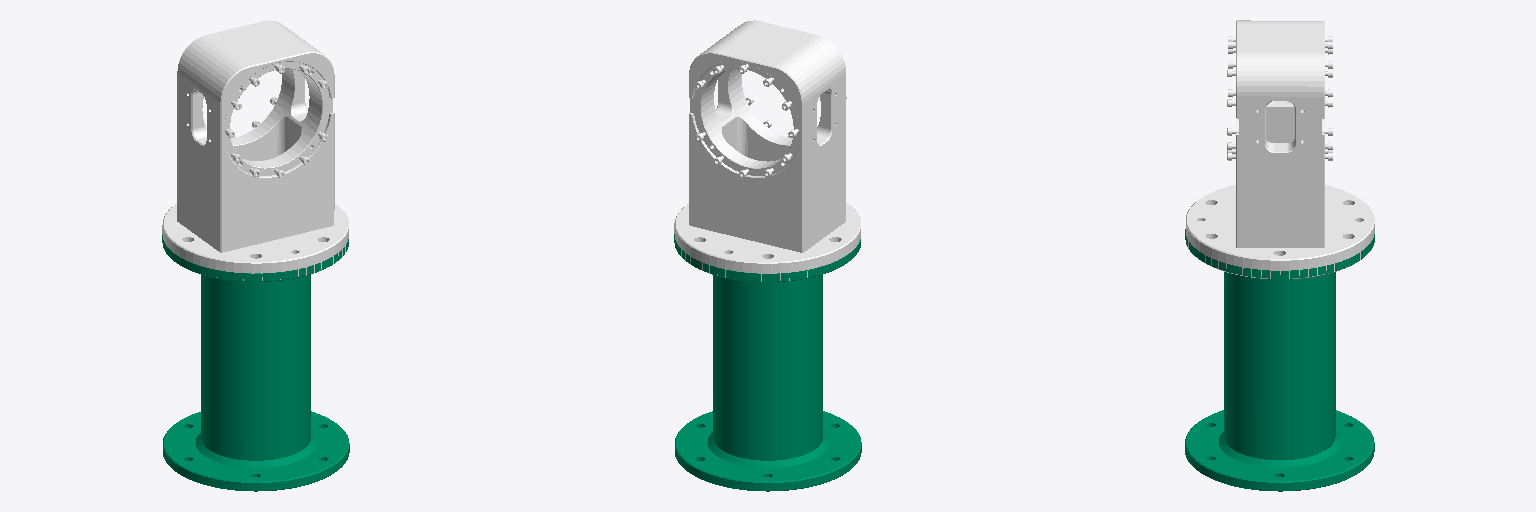
robot.urdf — base:
<robot name="base">
<!-- ===== World & Workspace frame ===== -->
    <link name="world" />
    <joint name="world_to_base0" type="fixed">
        <parent link="world" />
        <child link="base0" />
        <origin xyz="-0.3 0.705 -0.41" rpy="1.57 0 0" />
    </joint>
    <link name="base0">
        <visual>
            <origin rpy="0 0 0" xyz="0 0 0" />
            <geometry>
            <mesh filename="./meshes/base0.stl" scale="0.001 0.001 0.001" />
            </geometry>
        </visual>
        <inertial>
            <origin xyz="0 0 0" rpy="0 0 0" />
            <mass value="1.0" />
            <inertia ixx="0.01" ixy="0.0" ixz="0.0" iyy="0.01" iyz="0.0" izz="0.01" />
        </inertial>
    </link>
    <joint name="base0_to_base1" type="fixed">
        <parent link="base0" />
        <child link="base1" />
        <origin xyz="0.3 1.07 0.7" rpy="1.57 0 0" />
    </joint>
    <link name="base1">
        <visual>
            <origin rpy="0 0 0" xyz="0 0 0.0" />
            <geometry>
            <mesh filename="./meshes/base1.stl" scale="0.001 0.001 0.001" />
            </geometry>
        </visual>
        <inertial>
            <origin xyz="0 0 0" rpy="0 0 0" />
            <mass value="1.0" />
            <inertia ixx="0.01" ixy="0.0" ixz="0.0" iyy="0.01" iyz="0.0" izz="0.01" />
        </inertial>
    </link>
    <joint name="base1_to_stand" type="fixed">
        <parent link="base1" />
        <child link="robot_stand" />
        <origin xyz="0 0 -0.2" rpy="0 3.14 0" />
    </joint>
    <link name="robot_stand">
        <inertial>
            <origin xyz="9.4209E-05 -4.4091E-05 0.069418" rpy="0 0 0" />
            <mass value="3.3739" />
            <inertia ixx="0.01037" ixy="7.6022E-07" ixz="-1.0073E-06" iyy="0.01248" iyz="6.2315E-06" izz="0.0089543" />
        </inertial>
        <visual>
            <origin xyz="0 0 0" rpy="0 0 0" />
            <geometry>
                <mesh filename="./meshes/robot_stand.STL" />
            </geometry>
            <material name="">
                <color rgba="1 1 1 1" />
            </material>
        </visual>
        <collision>
            <origin xyz="0 0 0" rpy="0 0 0" />
            <geometry>
                <mesh filename="./meshes/robot_stand.STL" />
            </geometry>
        </collision>
    </link>
</robot>

--- Render facts (derived) ---
The picture shows the robot from 3 angles, left to right: view 1: azimuth 30°, elevation 25°; view 2: azimuth 150°, elevation 25°; view 3: azimuth 270°, elevation 25°; orthographic projection.
Robot: base — 4 links, 3 joints (3 fixed); root link world; default pose: all joints at 0.
Visible links, largest first — view 1: robot_stand, base1; view 2: robot_stand, base1; view 3: robot_stand, base1.
Link boxes in pixels (x1,y1,x2,y2): robot_stand: (162,20,348,280); base1: (162,235,349,491); robot_stand: (674,20,860,281); base1: (674,234,861,491); robot_stand: (1186,20,1374,278); base1: (1185,229,1374,491).
Size in the robot's own frame: 0.17 by 0.1703 by 0.4102 metres.
Meshes: 3 distinct files referenced, 2 mesh visuals loaded (2 binary STL); not drawn: 1 (reference not matched to a file when rendering).
